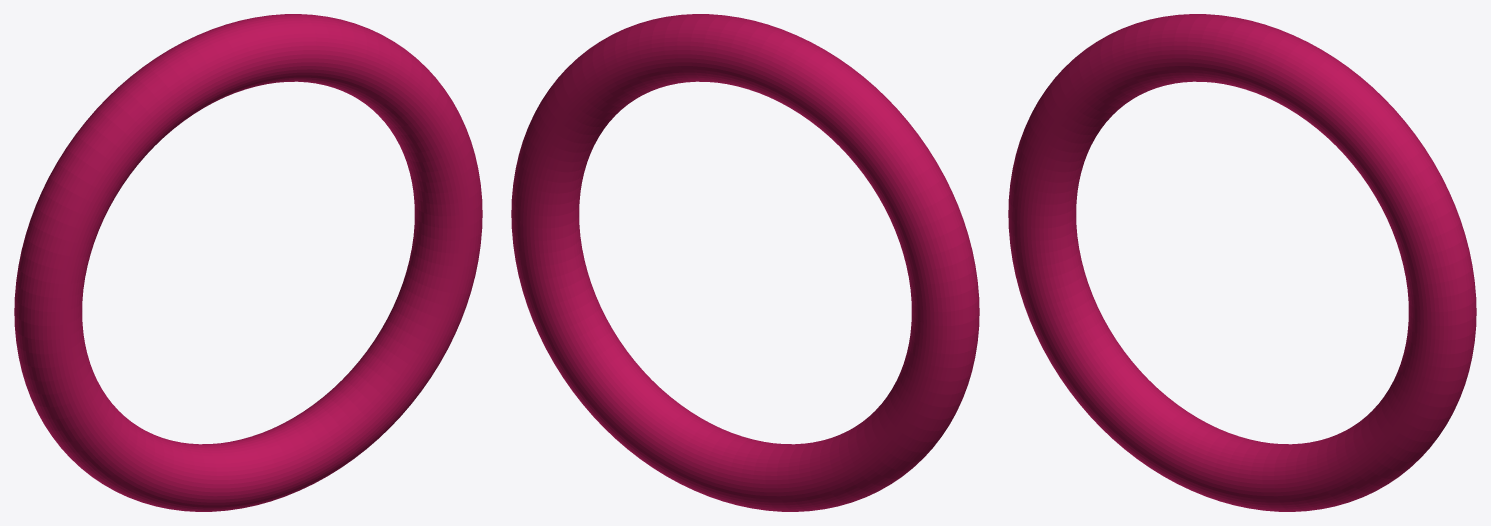
The picture shows the model from 3 angles, left to right: view 1: azimuth 30°, elevation 25°; view 2: azimuth 150°, elevation 25°; view 3: azimuth 330°, elevation 25°; orthographic projection.
Visible parts, largest first — view 1: world; view 2: world; view 3: world.
Part boxes in pixels (x1,y1,x2,y2): world: (14,14,482,511); world: (511,14,979,511); world: (1008,14,1476,511).
Size of the model in its own units: 34.4 by 34.4 by 4.39.
